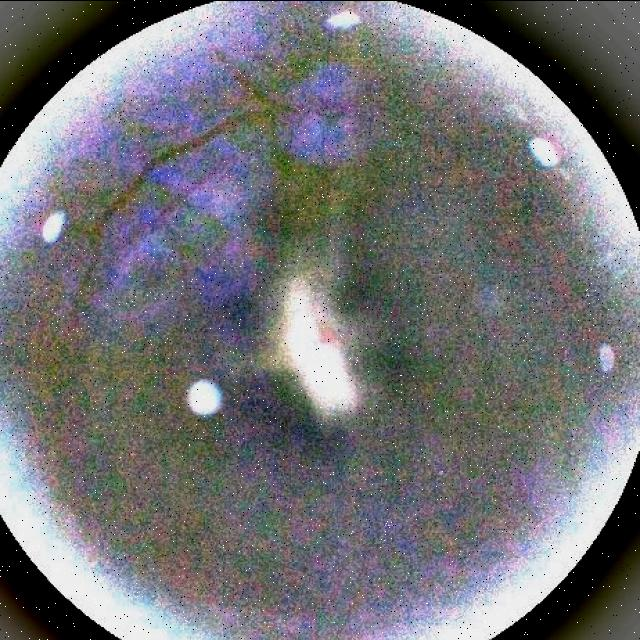Nerves: (82, 41, 313, 249)
